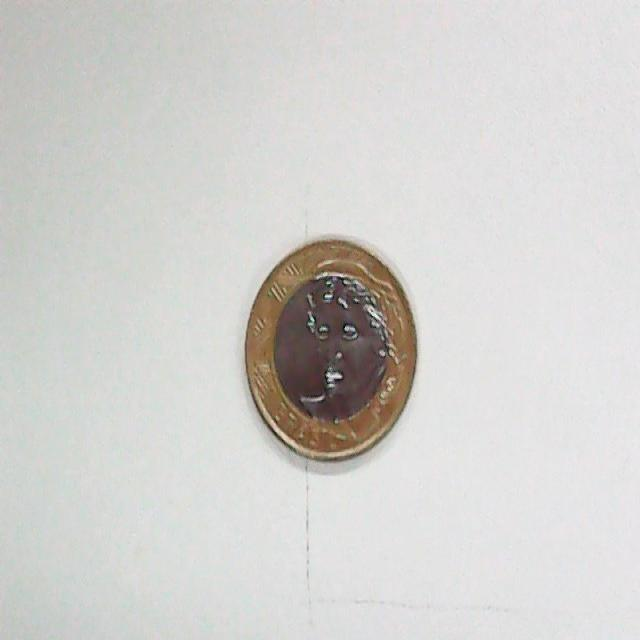1 real: (231, 218, 430, 475)
